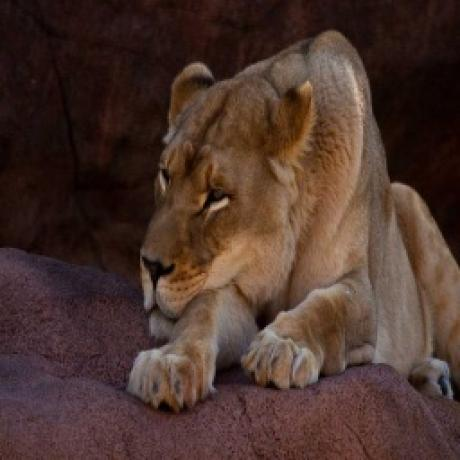Lion: (124, 22, 460, 412)
